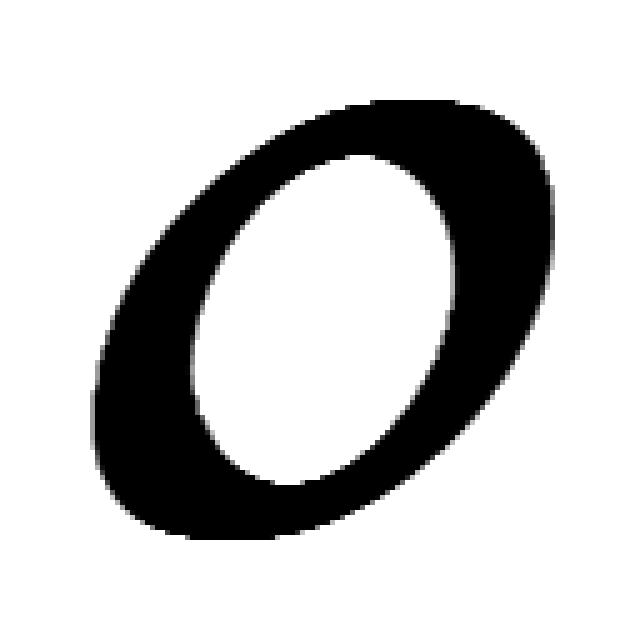O: (90, 100, 560, 545)
